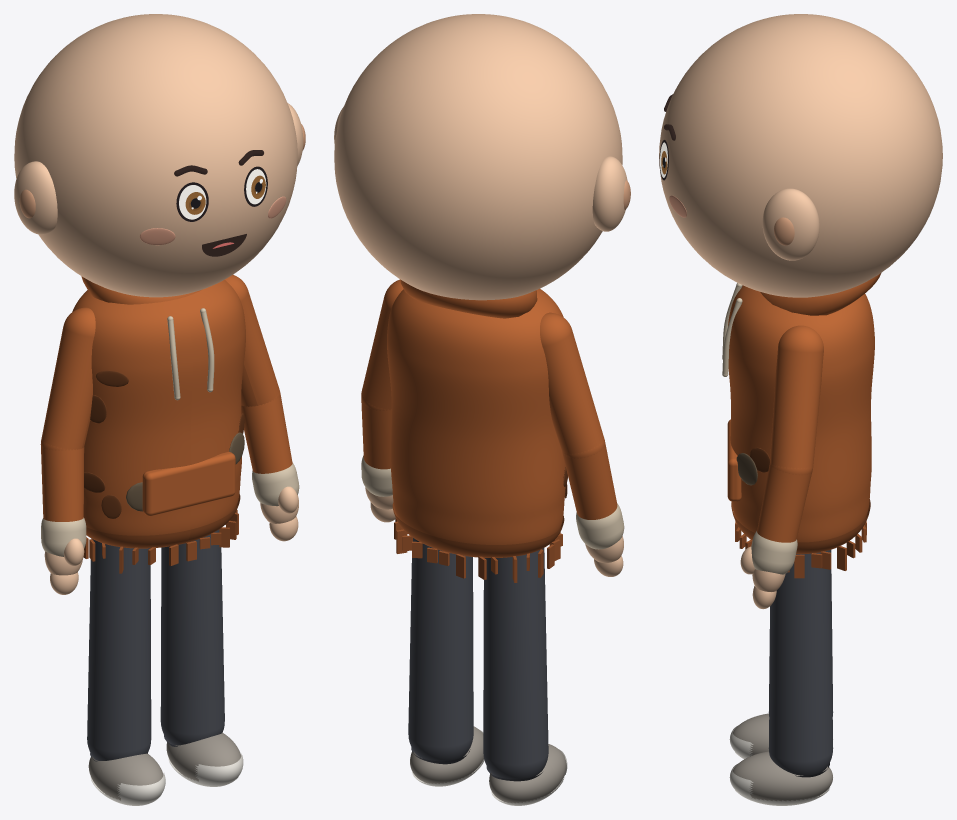
File: hoofdpersonage_zwerver.glb
The picture shows the model from 3 angles, left to right: view 1: azimuth 30°, elevation 25°; view 2: azimuth 150°, elevation 25°; view 3: azimuth 270°, elevation 25°; orthographic projection.
Visible parts, largest first — view 1: hoofdpersonage_zwerver_hoofd, hoofdpersonage_zwerver_romp, hoofdpersonage_zwerver_been_R, hoofdpersonage_zwerver_been_L, hoofdpersonage_zwerver_bovenarm_R, hoofdpersonage_zwerver_buidelzak, hoofdpersonage_zwerver_onderarm_R, hoofdpersonage_zwerver_onderarm_L, hoofdpersonage_zwerver_bovenarm_L, hoofdpersonage_zwerver_oor_R, hoofdpersonage_zwerver_schoen_R, hoofdpersonage_zwerver_schoen_L (+8 smaller); view 2: hoofdpersonage_zwerver_hoofd, hoofdpersonage_zwerver_romp, hoofdpersonage_zwerver_been_R, hoofdpersonage_zwerver_been_L, hoofdpersonage_zwerver_bovenarm_R, hoofdpersonage_zwerver_onderarm_R, hoofdpersonage_zwerver_bovenarm_L, hoofdpersonage_zwerver_oor_R, hoofdpersonage_zwerver_capuchon, hoofdpersonage_zwerver_schoen_R, hoofdpersonage_zwerver_romp_boord, hoofdpersonage_zwerver_schoen_L (+4 smaller); view 3: hoofdpersonage_zwerver_hoofd, hoofdpersonage_zwerver_romp, hoofdpersonage_zwerver_been_L, hoofdpersonage_zwerver_bovenarm_L, hoofdpersonage_zwerver_onderarm_L, hoofdpersonage_zwerver_schoen_L, hoofdpersonage_zwerver_oor_L, hoofdpersonage_zwerver_capuchon, hoofdpersonage_zwerver_manchet_L, hoofdpersonage_zwerver_schoen_R, hoofdpersonage_zwerver_romp_boord, hoofdpersonage_zwerver_buidelzak (+2 smaller).
Boxes of the visible parts, left/top/right/bottom form: hoofdpersonage_zwerver_hoofd: left=14, top=14, right=297, bottom=297; hoofdpersonage_zwerver_romp: left=72, top=280, right=245, bottom=535; hoofdpersonage_zwerver_been_R: left=87, top=538, right=151, bottom=760; hoofdpersonage_zwerver_been_L: left=160, top=529, right=224, bottom=745; hoofdpersonage_zwerver_bovenarm_R: left=41, top=307, right=95, bottom=450; hoofdpersonage_zwerver_buidelzak: left=142, top=451, right=235, bottom=516; hoofdpersonage_zwerver_onderarm_R: left=41, top=443, right=84, bottom=521; hoofdpersonage_zwerver_onderarm_L: left=241, top=393, right=292, bottom=473; hoofdpersonage_zwerver_bovenarm_L: left=225, top=275, right=279, bottom=406; hoofdpersonage_zwerver_oor_R: left=14, top=161, right=57, bottom=234; hoofdpersonage_zwerver_schoen_R: left=88, top=753, right=163, bottom=800; hoofdpersonage_zwerver_schoen_L: left=166, top=732, right=241, bottom=781; hoofdpersonage_zwerver_hoofd: left=334, top=14, right=622, bottom=300; hoofdpersonage_zwerver_romp: left=387, top=288, right=565, bottom=544; hoofdpersonage_zwerver_been_R: left=483, top=548, right=548, bottom=779; hoofdpersonage_zwerver_been_L: left=408, top=538, right=473, bottom=761; hoofdpersonage_zwerver_bovenarm_R: left=540, top=312, right=604, bottom=457; hoofdpersonage_zwerver_onderarm_R: left=562, top=442, right=617, bottom=519; hoofdpersonage_zwerver_bovenarm_L: left=361, top=279, right=403, bottom=409; hoofdpersonage_zwerver_oor_R: left=592, top=156, right=627, bottom=231; hoofdpersonage_zwerver_capuchon: left=400, top=280, right=537, bottom=318; hoofdpersonage_zwerver_schoen_R: left=489, top=744, right=566, bottom=803; hoofdpersonage_zwerver_romp_boord: left=392, top=502, right=564, bottom=557; hoofdpersonage_zwerver_schoen_L: left=410, top=726, right=483, bottom=783; hoofdpersonage_zwerver_hoofd: left=659, top=14, right=942, bottom=297; hoofdpersonage_zwerver_romp: left=728, top=285, right=874, bottom=542; hoofdpersonage_zwerver_been_L: left=768, top=550, right=833, bottom=775; hoofdpersonage_zwerver_bovenarm_L: left=770, top=325, right=823, bottom=474; hoofdpersonage_zwerver_onderarm_L: left=757, top=463, right=812, bottom=542; hoofdpersonage_zwerver_schoen_L: left=732, top=751, right=832, bottom=801; hoofdpersonage_zwerver_oor_L: left=762, top=188, right=819, bottom=260; hoofdpersonage_zwerver_capuchon: left=760, top=273, right=881, bottom=315; hoofdpersonage_zwerver_manchet_L: left=751, top=531, right=797, bottom=574; hoofdpersonage_zwerver_schoen_R: left=732, top=713, right=769, bottom=756; hoofdpersonage_zwerver_romp_boord: left=731, top=499, right=870, bottom=554; hoofdpersonage_zwerver_buidelzak: left=727, top=419, right=741, bottom=501.
Bounding box in the file's own units: 0.6887 × 1.76 × 0.6.
